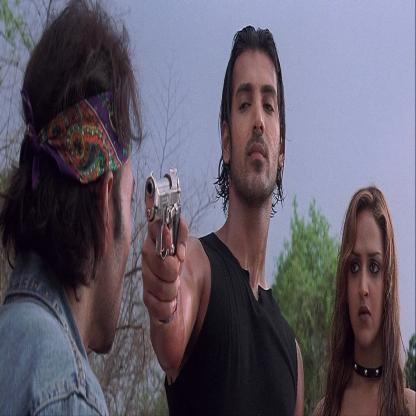gun: (131, 144, 184, 266)
